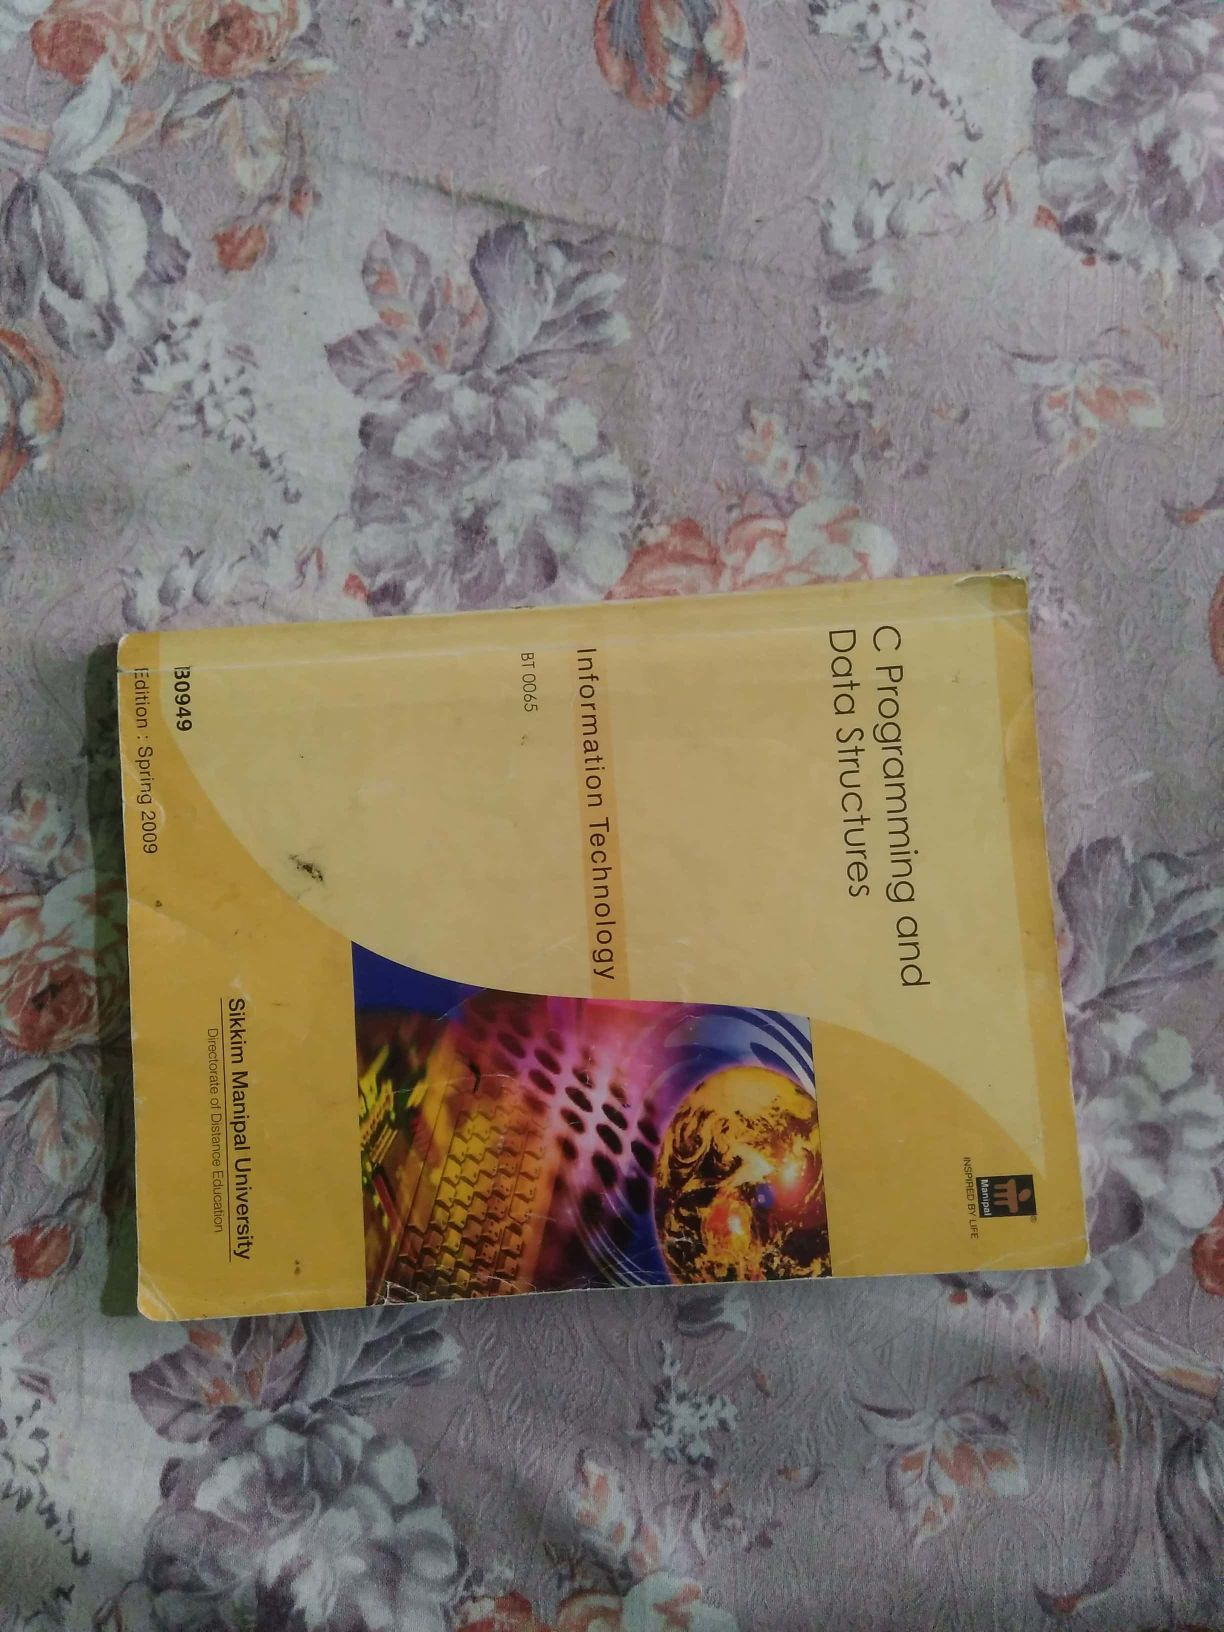clang: (32, 544, 1148, 1361)
